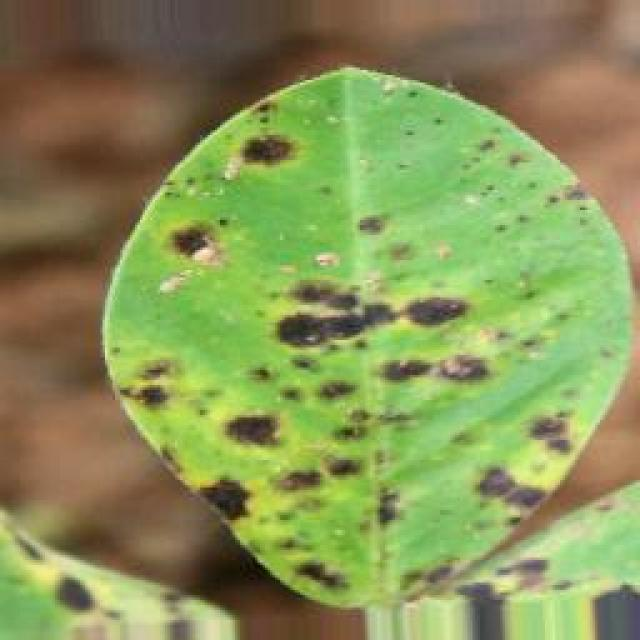Yellowish: (94, 74, 600, 616)
